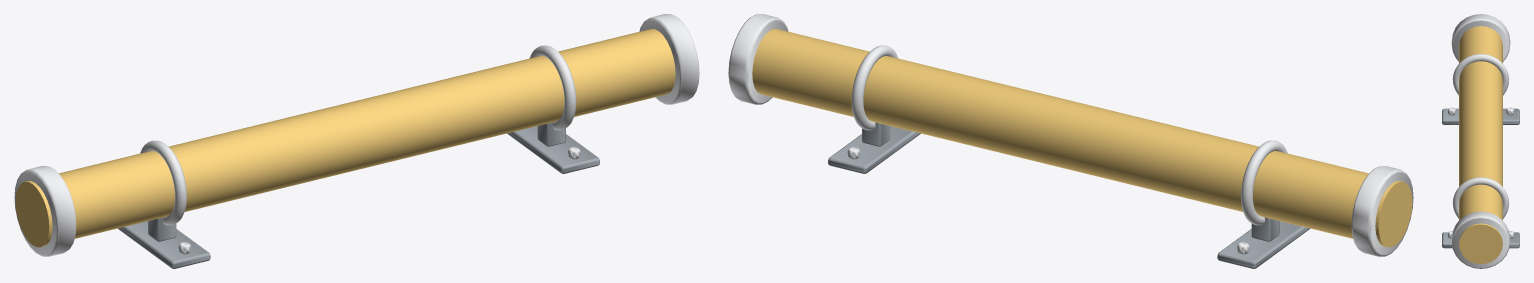
File: tuberia_recta.glb
The picture shows the model from 3 angles, left to right: view 1: azimuth 30°, elevation 25°; view 2: azimuth 150°, elevation 25°; view 3: azimuth 270°, elevation 25°; orthographic projection. The views are drawn at different scales.
Parts seen in each view (by area): view 1: tubo, brida-0.48, brida0.48, base-0.3, base0.3, abrazadera-0.3, abrazadera0.3, soporte-0.3, soporte0.3; view 2: tubo, brida-0.48, brida0.48, base-0.3, base0.3, abrazadera-0.3, abrazadera0.3, soporte-0.3, soporte0.3; view 3: tubo, brida0.48, brida-0.48, abrazadera-0.3, abrazadera0.3, base-0.3, base0.3, perno-0.3-1, perno-0.31.
Part boxes in pixels (x1,y1,x2,y2): tubo: (15,29,675,247); brida-0.48: (14,166,76,256); brida0.48: (639,14,699,104); base-0.3: (117,221,210,268); base0.3: (507,126,599,173); abrazadera-0.3: (140,140,186,225); abrazadera0.3: (529,45,576,130); soporte-0.3: (148,217,176,241); soporte0.3: (537,122,565,146); tubo: (752,29,1412,247); brida-0.48: (1351,166,1413,256); brida0.48: (728,14,788,104); base-0.3: (1217,221,1310,268); base0.3: (828,126,920,173); abrazadera-0.3: (1241,140,1287,225); abrazadera0.3: (851,45,898,130); soporte-0.3: (1251,217,1279,241); soporte0.3: (862,122,890,146); tubo: (1459,26,1502,263); brida0.48: (1451,211,1510,268); brida-0.48: (1451,14,1510,61); abrazadera-0.3: (1452,54,1509,95); abrazadera0.3: (1452,177,1509,218); base-0.3: (1442,108,1519,124); base0.3: (1442,232,1519,248); perno-0.3-1: (1448,107,1455,115); perno-0.31: (1506,107,1513,115).
Bounding box in the file's own units: 1 × 0.15 × 0.16.
